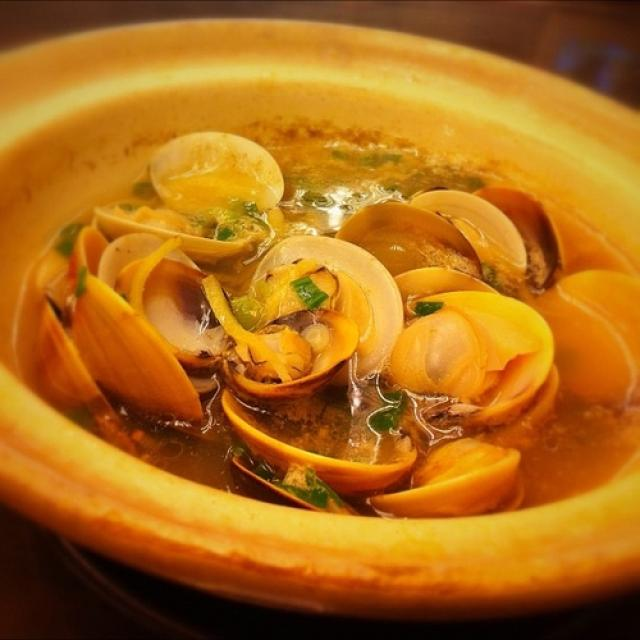汤锅炖物: (4, 23, 626, 613)
